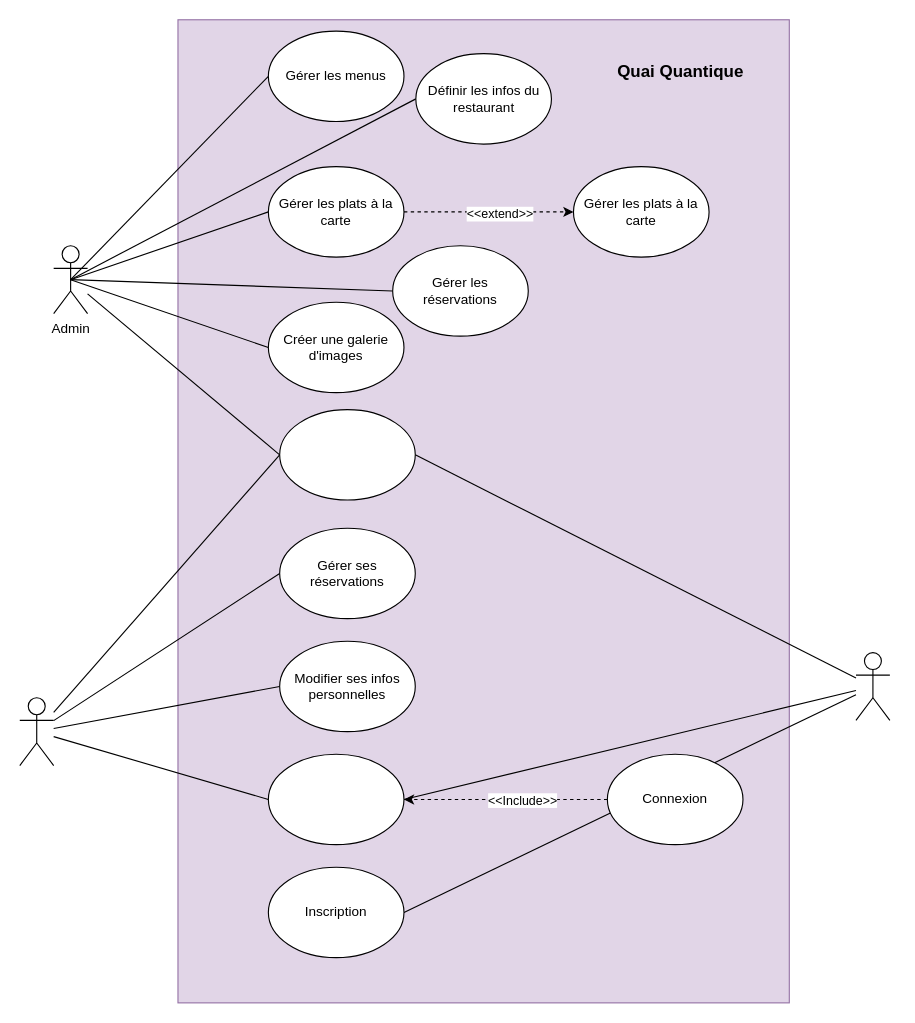
The diagram is 915 pixels wide and 1023 high, and some of its shapes have lost their labels. Each missing label, with the centre of its shape:
Afficher la carte: [347,454]
Client: [36,731]
Réserver une table: [335,799]
Visiteur: [872,685]
